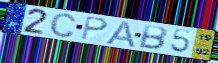2: (22, 8, 50, 36)
5: (169, 28, 193, 54)
A: (103, 19, 137, 49)
B: (137, 23, 169, 51)
C: (49, 12, 78, 39)
P: (81, 15, 110, 41)
